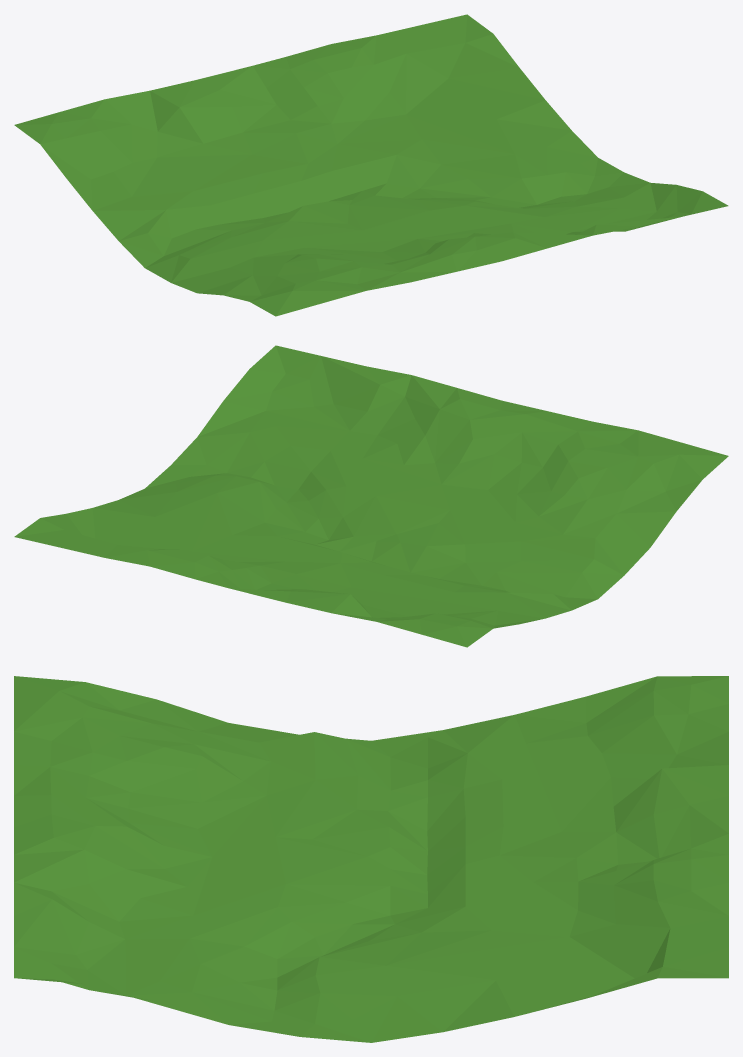
The model's file is terrain-valley.glb.
The picture shows the model from 3 angles, top to bottom: view 1: azimuth 30°, elevation 25°; view 2: azimuth 150°, elevation 25°; view 3: azimuth 270°, elevation 25°; orthographic projection. The views are drawn at different scales.
Parts seen in each view (by area): view 1: terrain-valley; view 2: terrain-valley; view 3: terrain-valley.
Part boxes in pixels (x1,y1,x2,y2): terrain-valley: [14, 14, 728, 316]; terrain-valley: [14, 345, 728, 647]; terrain-valley: [14, 676, 728, 1042].
Size of the model in its own units: 60 by 6.72 by 60.
Materials: 1 (1 with a texture image).
